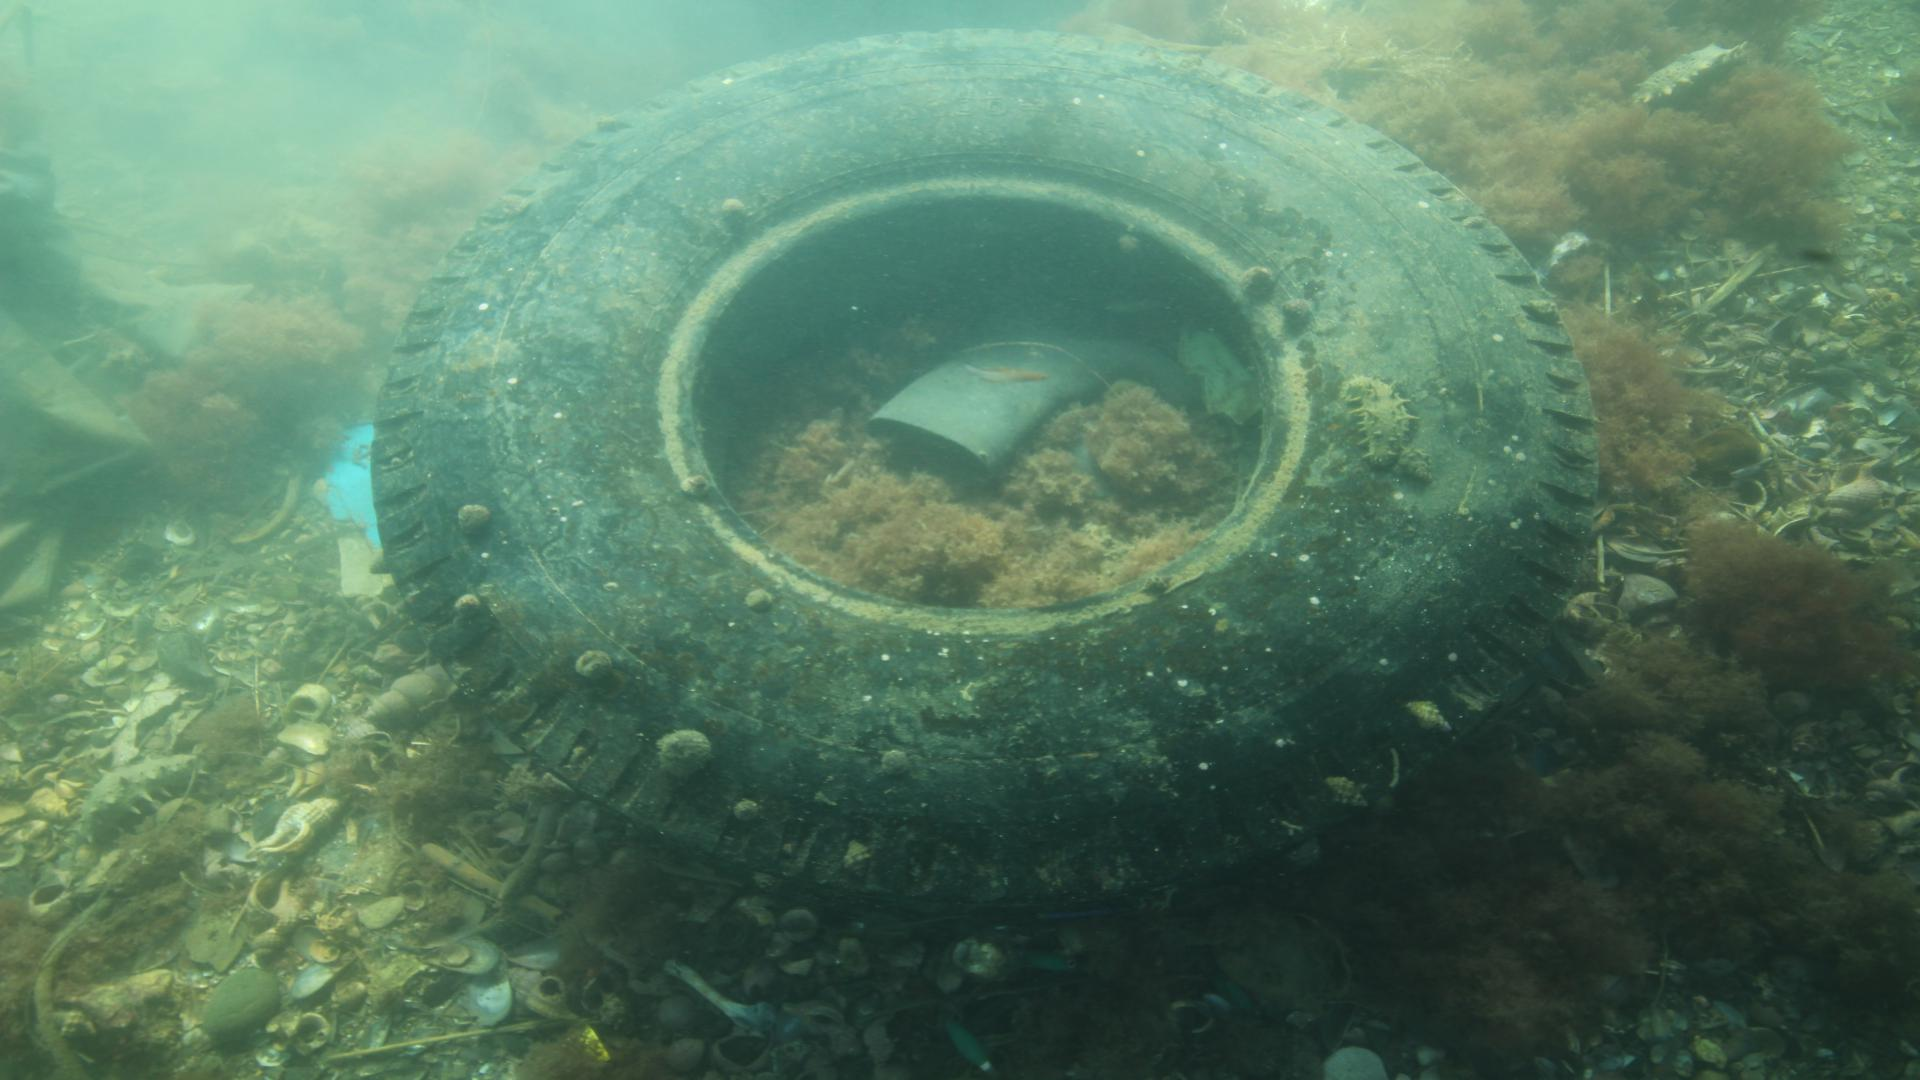tire: (367, 22, 1605, 905)
